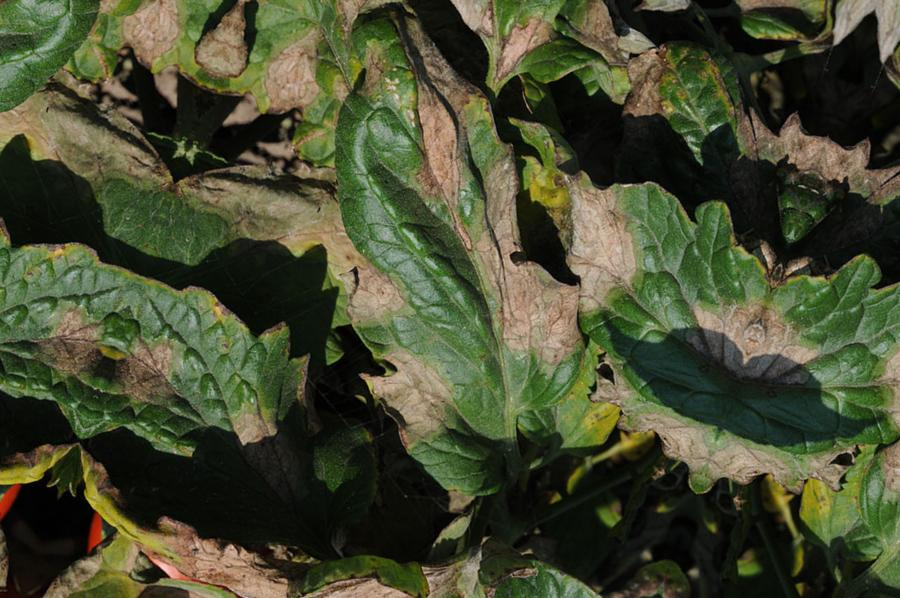Tomato leaf late blight: (190, 0, 672, 528), (469, 133, 788, 490), (65, 255, 391, 569), (186, 454, 547, 598), (250, 0, 626, 112), (406, 511, 664, 598)
